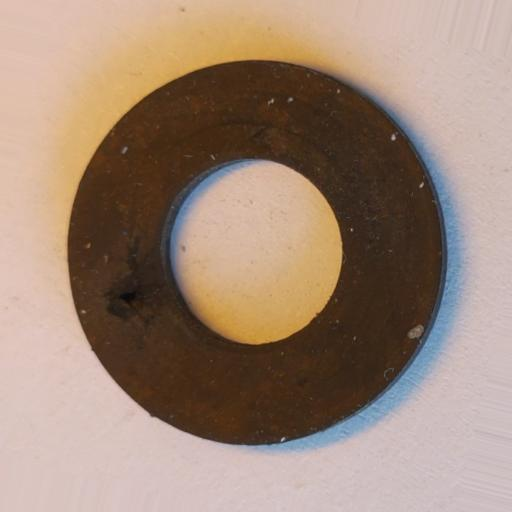defect: (105, 234, 163, 328)
